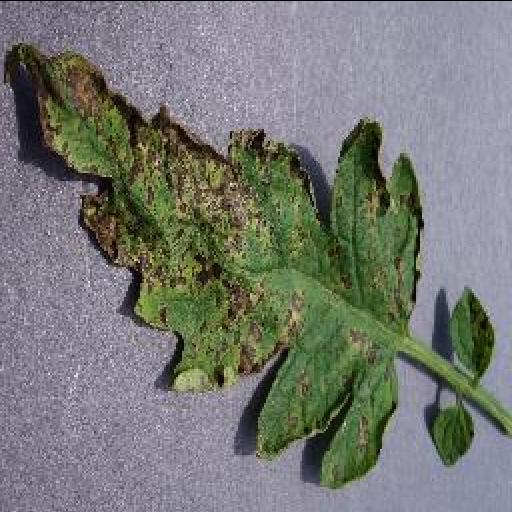disease_tomato: (20, 40, 422, 481)
